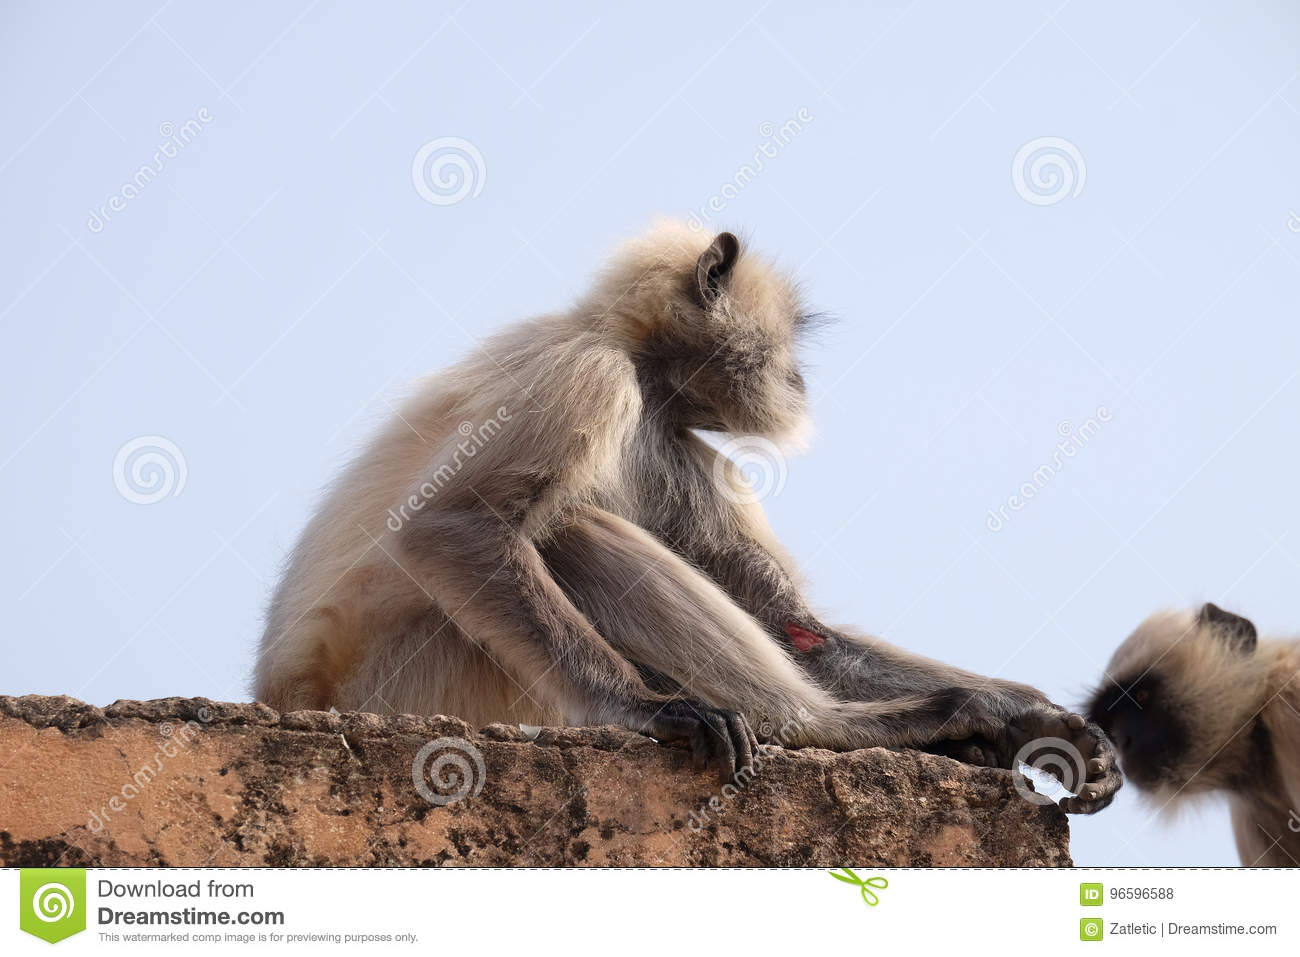monkey: (230, 205, 1154, 828), (1084, 572, 1300, 872)
